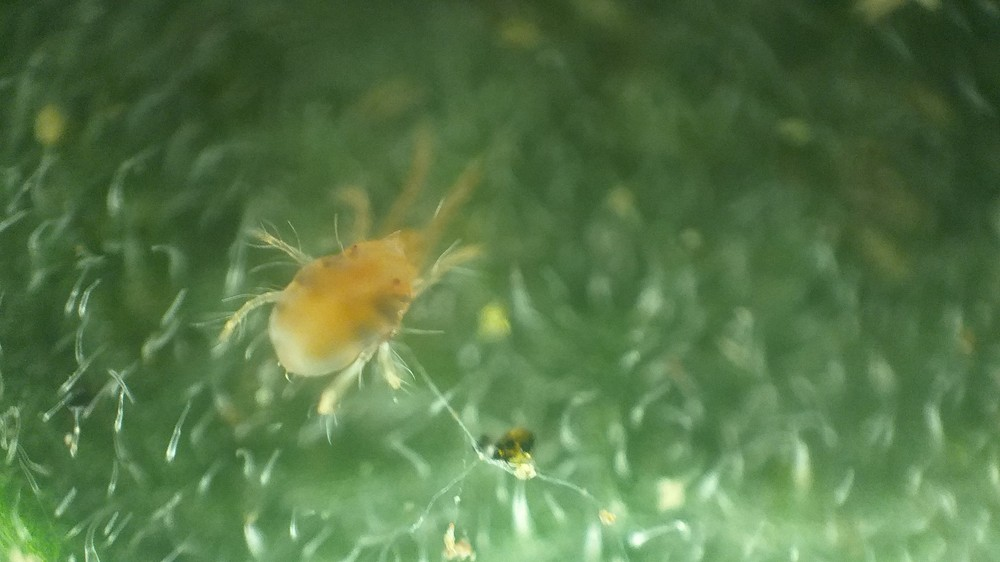Aracnido Rojo: (209, 129, 513, 429)
